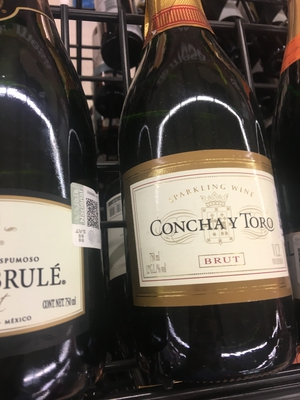brut: (114, 4, 284, 363)
